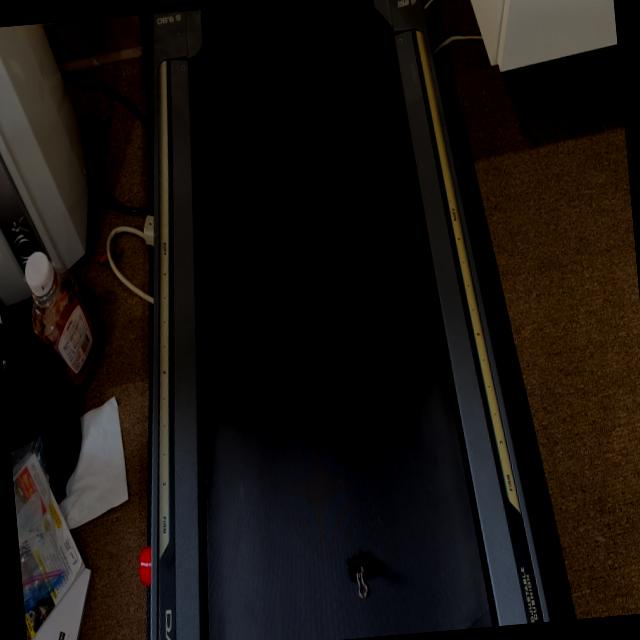Trash: (345, 549, 372, 601)
